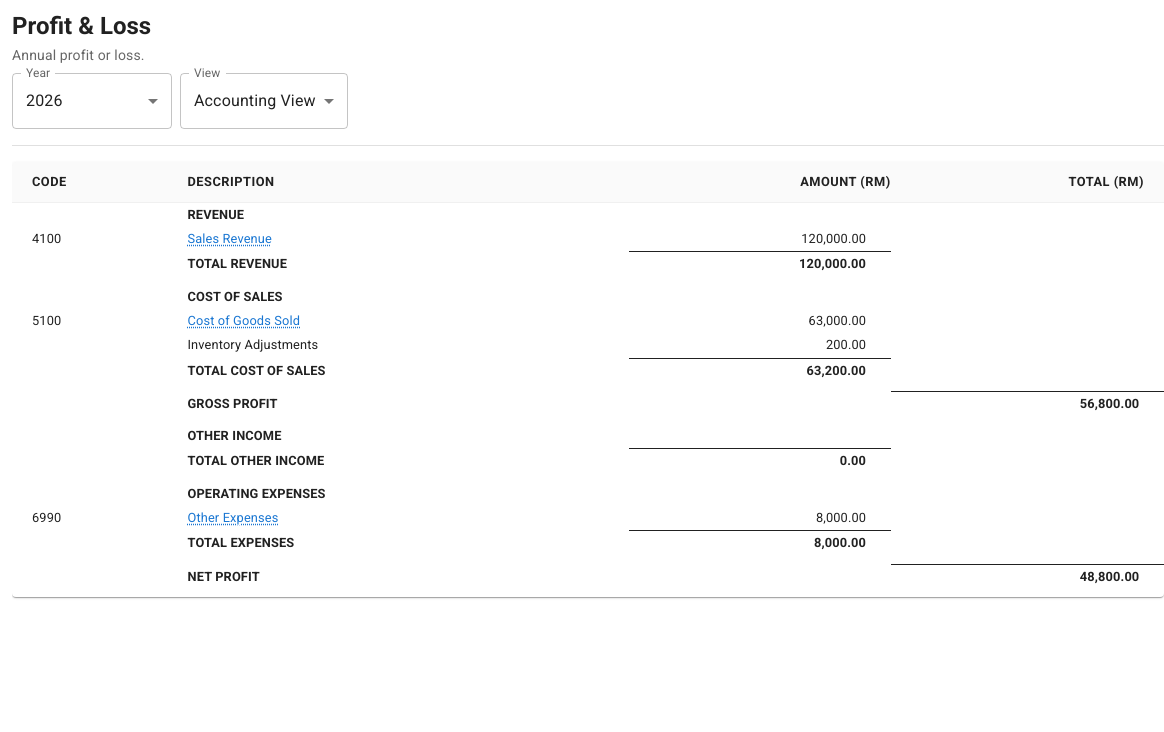
ProfitAndLossPage › offers every available year, newest first, and no empty choice
This screenshot has width=1164, height=732.
Click the dropdown named "year" at (44, 101), box x1=26 y1=91 x2=63 y2=110
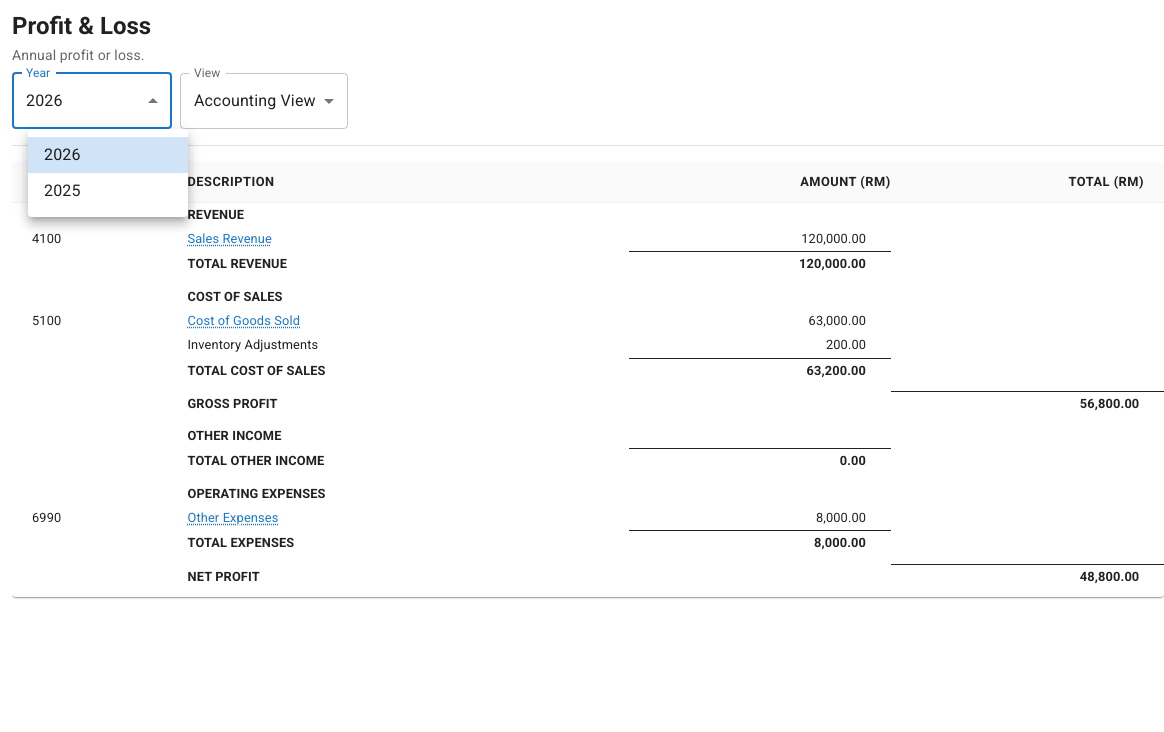
Expected: the options read "2026", "2025", in this order, x1=28 y1=137 x2=188 y2=173; x1=44 y1=181 x2=81 y2=200
